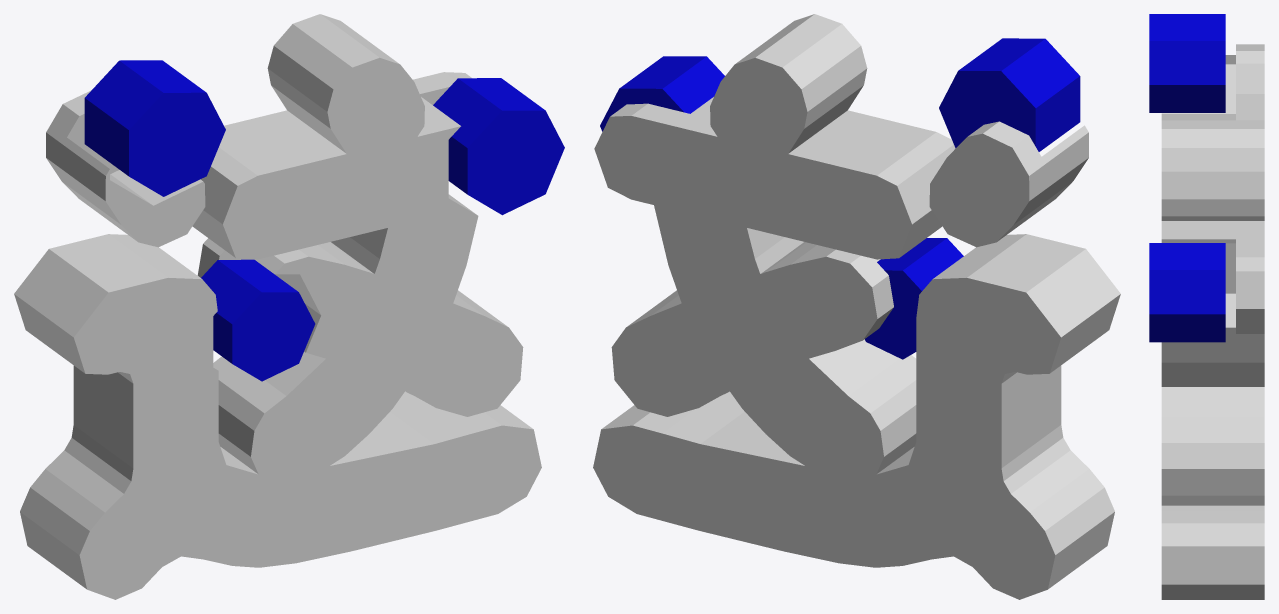
Rendered from Ch_Lite_China_这_01.fbx.
The picture shows the model from 3 angles, left to right: view 1: azimuth 30°, elevation 25°; view 2: azimuth 150°, elevation 25°; view 3: azimuth 270°, elevation 25°; orthographic projection. The views are drawn at different scales.
Visible parts, largest first — view 1: sphere1; view 2: sphere1; view 3: sphere1.
Boxes of the visible parts, x1,y1,x2,y2 form: sphere1: (14,14,564,599); sphere1: (593,14,1120,599); sphere1: (1149,14,1264,599).
Size of the model in its own units: 0.9353 by 0.9443 by 0.2242.
